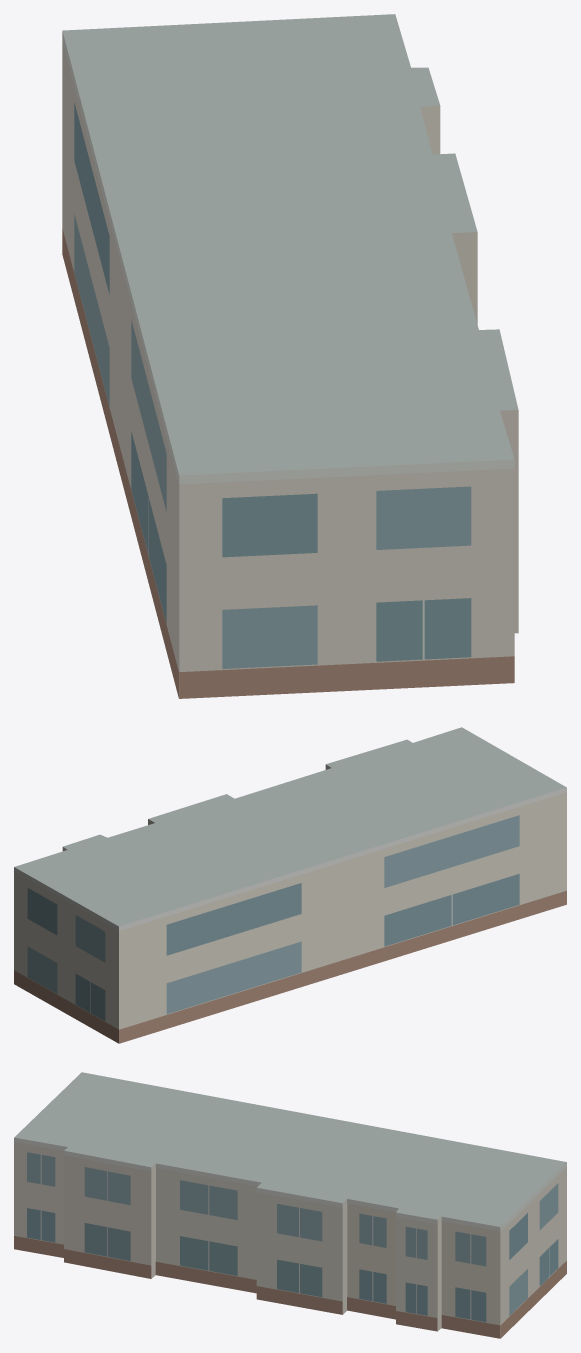
Rendered from survey-upis-32572155.glb.
3 views of the same model, one above another, from view 1: azimuth 30°, elevation 25°; view 2: azimuth 150°, elevation 25°; view 3: azimuth 270°, elevation 25° (orthographic). The views are drawn at different scales.
Parts seen in each view (by area): view 1: survey-upis-32572155.tmp; view 2: survey-upis-32572155.tmp; view 3: survey-upis-32572155.tmp.
Boxes of the visible parts, x1,y1,x2,y2 form: survey-upis-32572155.tmp: (62,14,518,698); survey-upis-32572155.tmp: (14,727,566,1043); survey-upis-32572155.tmp: (14,1072,566,1338).
Bounding box in the file's own units: 18.16 × 6.1 × 27.38.
